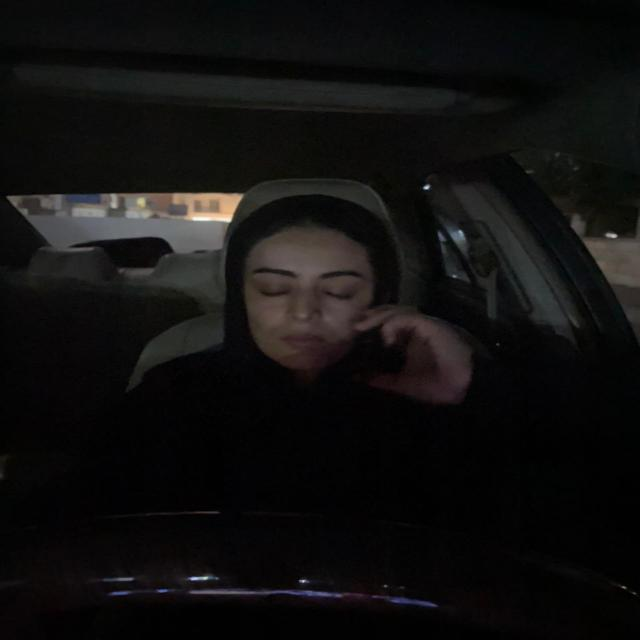person: (227, 213, 383, 373)
